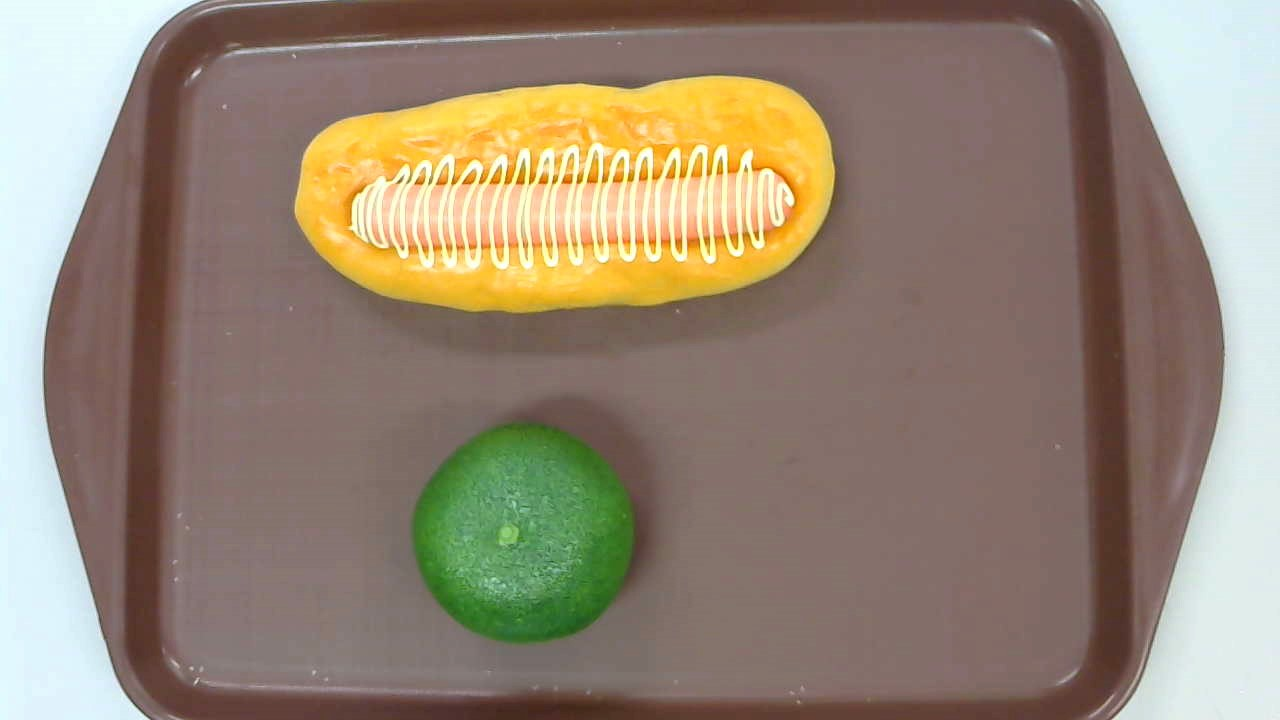green orange: (412, 422, 635, 644)
hot dog: (294, 75, 836, 315)
